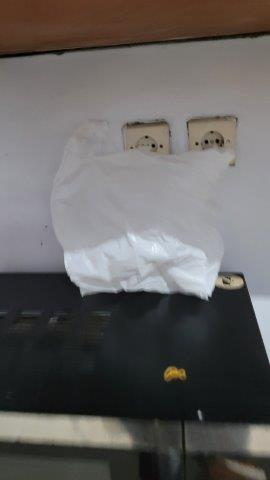plastik: (50, 120, 236, 298)
